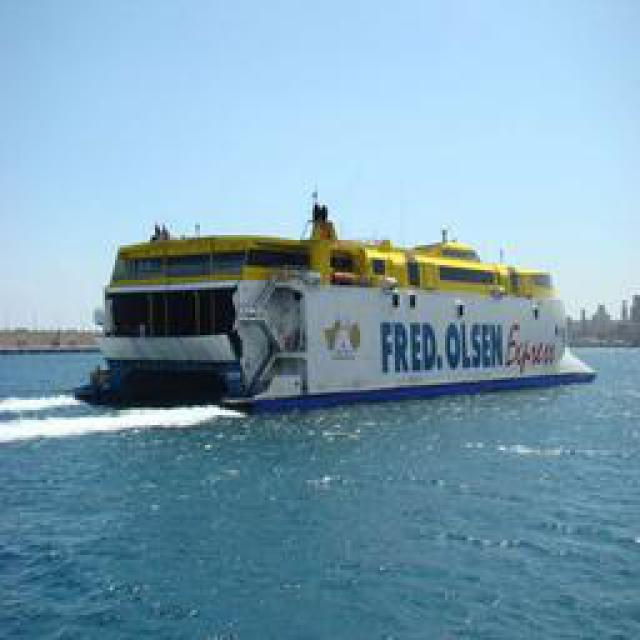Ship: (93, 225, 591, 415)
